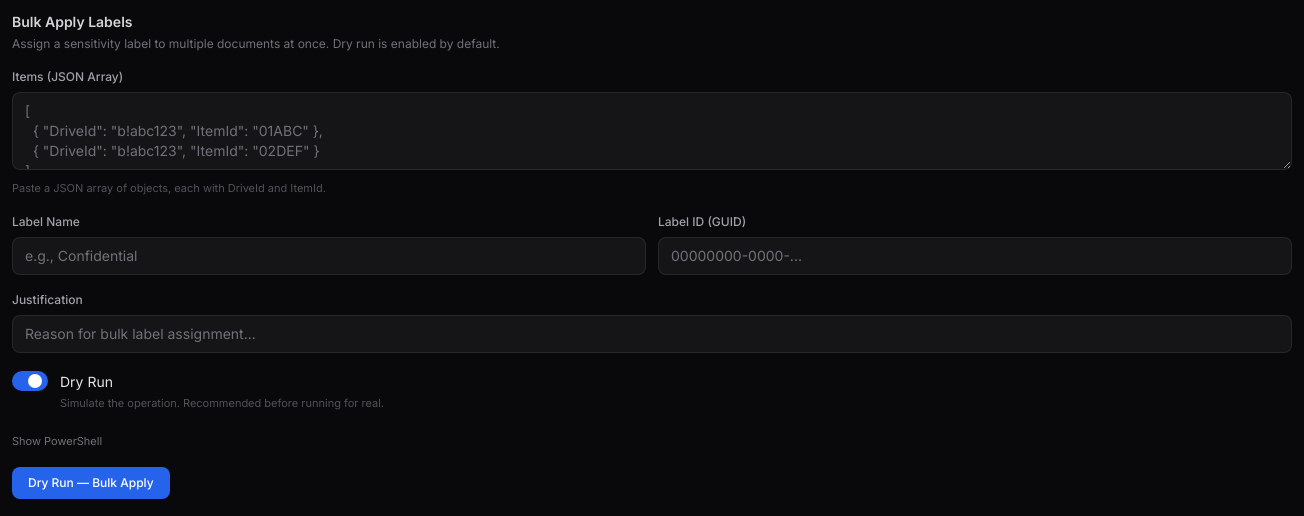
Test case: DocumentLabelBulk › mutual exclusion of LabelName and LabelId › disables LabelId when LabelName has text
Type "Secret" into the field with placeholder "e.g., Confidential".
click(329, 256); type("Secret")  # box [12,236,646,274]
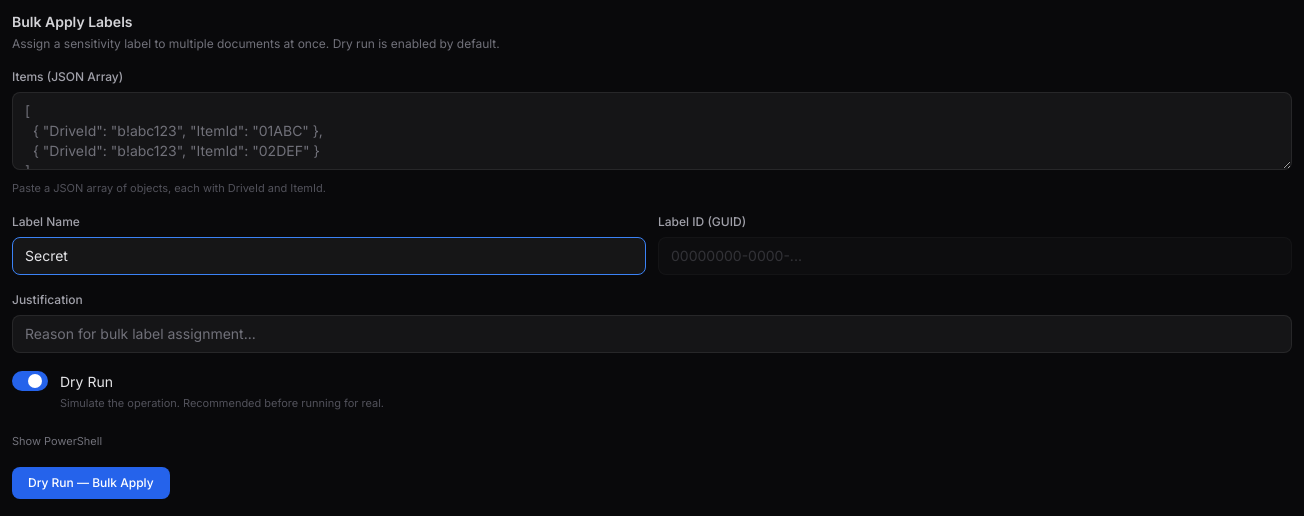
Now the field with placeholder "00000000-0000-..." is disabled, box [658,236,1292,274]
